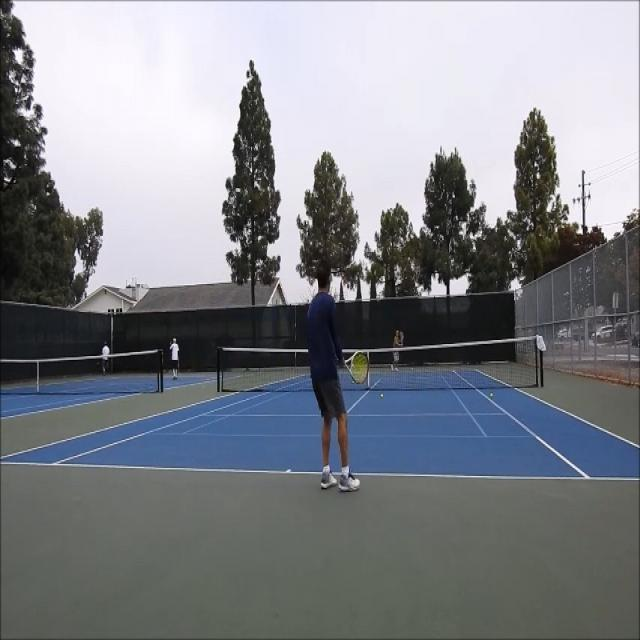court: (0, 370, 640, 480)
net: (216, 335, 544, 395)
player: (306, 260, 368, 493)
